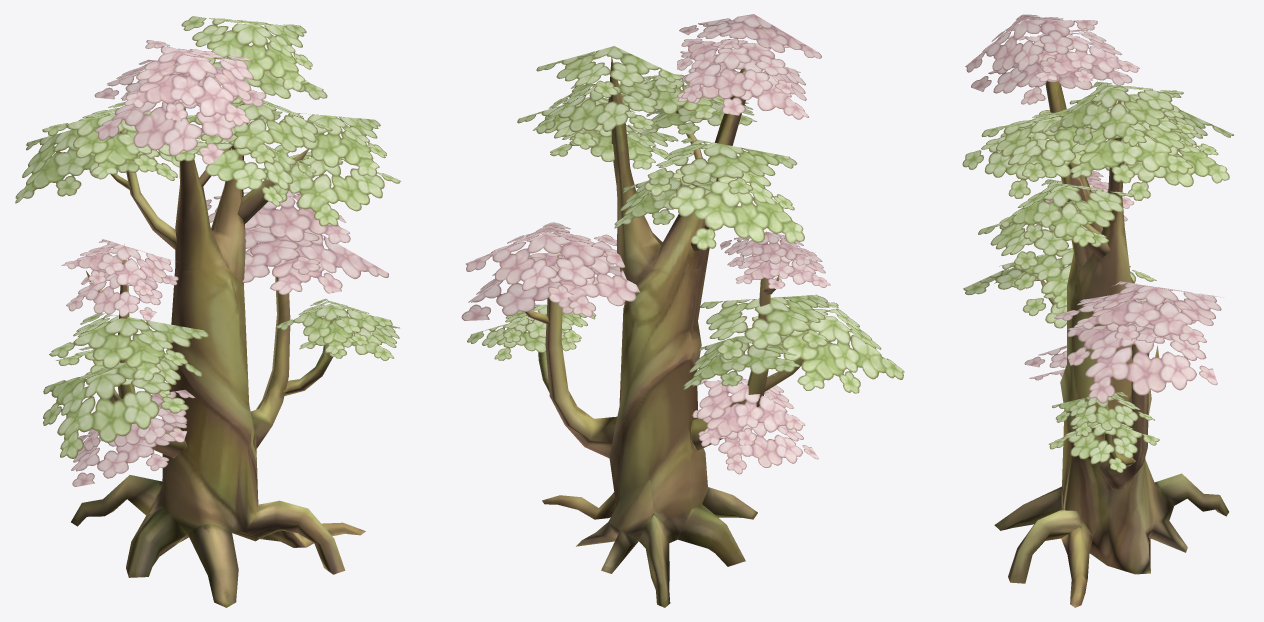
File: map_1002_shu_08.FBX
3 renders of one model, left to right at view 1: azimuth 30°, elevation 25°; view 2: azimuth 150°, elevation 25°; view 3: azimuth 270°, elevation 25°, orthographic. The views are drawn at different scales.
Visible parts, largest first — view 1: map_1002_shu_08; view 2: map_1002_shu_08; view 3: map_1002_shu_08.
Boxes of the visible parts, left/top/right/bottom form: map_1002_shu_08: left=15, top=16, right=400, bottom=607; map_1002_shu_08: left=461, top=14, right=904, bottom=607; map_1002_shu_08: left=962, top=14, right=1233, bottom=607.
Bounding box in the file's own units: 6.05 × 7.48 × 4.13.
